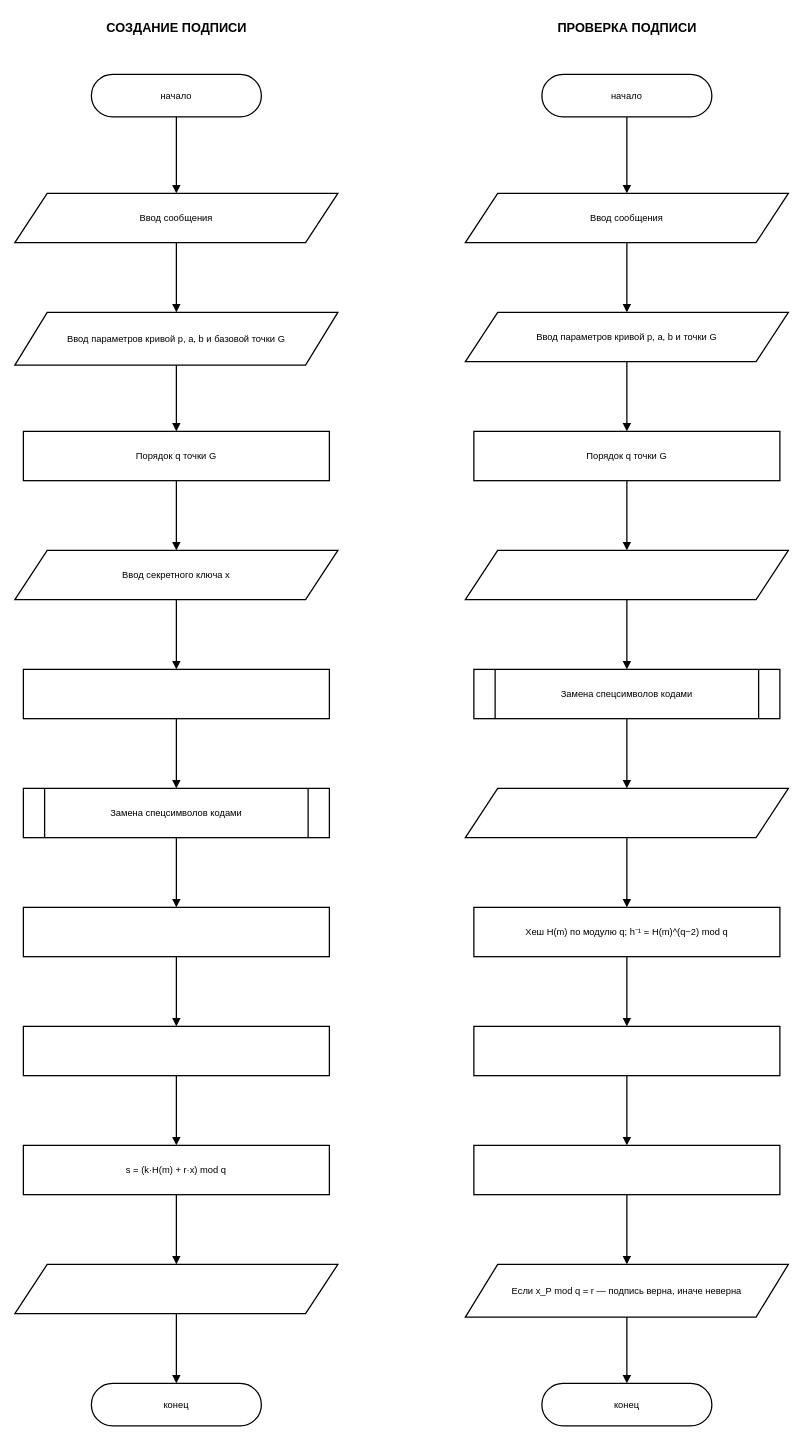
This 804x1441 diagram has some shape labels left out. The shapes that lost their labels are listed below. From the top down, each one's centre as x and y in pixels, then its label:
At (626,574): "Ввод открытого ключа Y".
At (176,693): "Открытый ключ: Y = [x]·G".
At (626,812): "Ввод подписи (r, s)".
At (176,931): "Хеш сообщения H(m) по модулю q".
At (176,1050): "Выбор k; точка P = [k]·G; r = x_P mod q".
At (626,1050): "z1 = s·h⁻¹ mod q; z2 = −r·h⁻¹ mod q".
At (626,1169): "Точка P = [z1]·G + [z2]·Y".
At (176,1288): "Вывод подписи (r, s) и открытого ключа Y".
